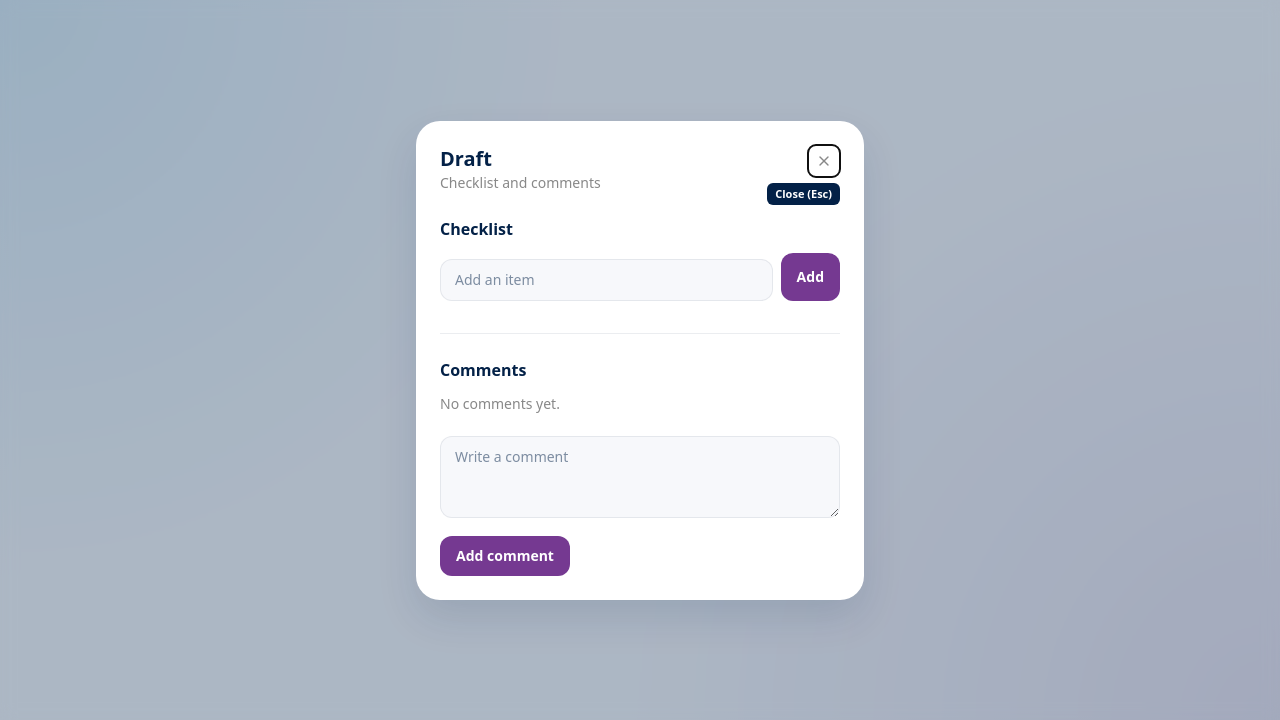
Test: CardDialog › adds and deletes a comment and passes the updated board on
Expected: the text "No comments yet." is shown, x1=440 y1=394 x2=560 y2=412
In the text box named "New comment": (640, 476) x1=440 y1=436 x2=840 y2=518, type "  First!  "
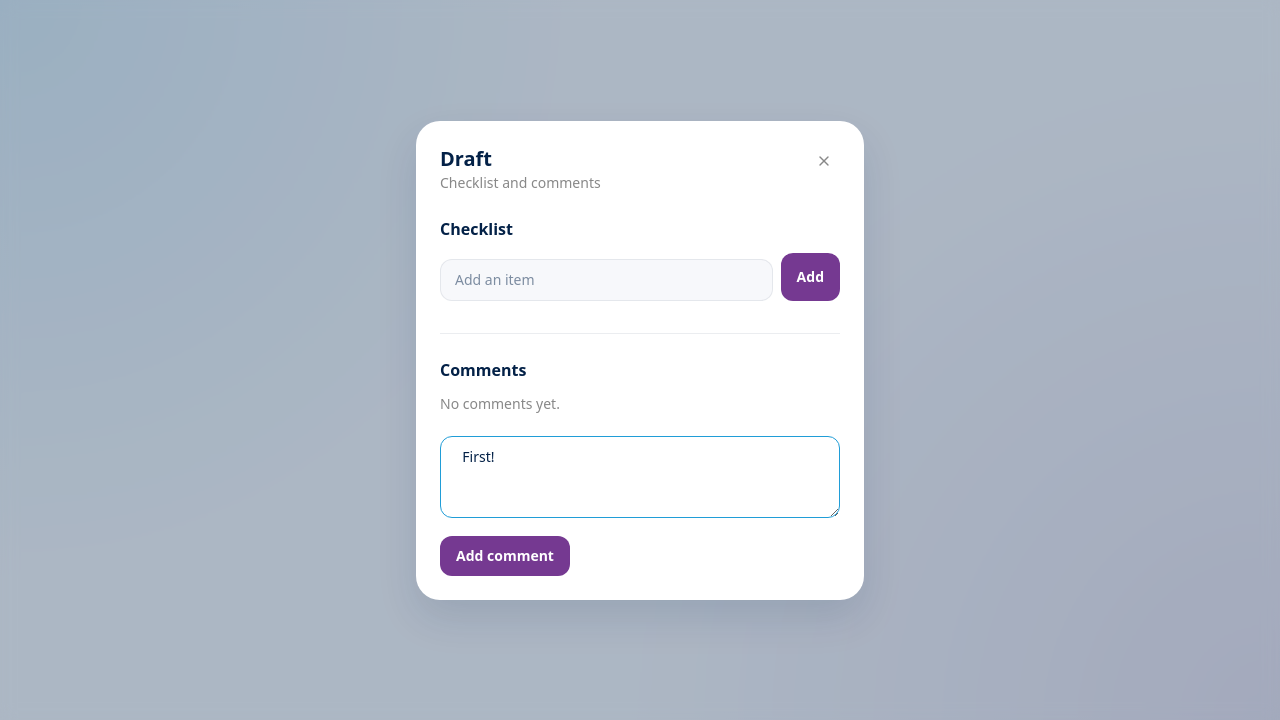
Click the button "Add comment": (505, 556) x1=440 y1=536 x2=570 y2=576
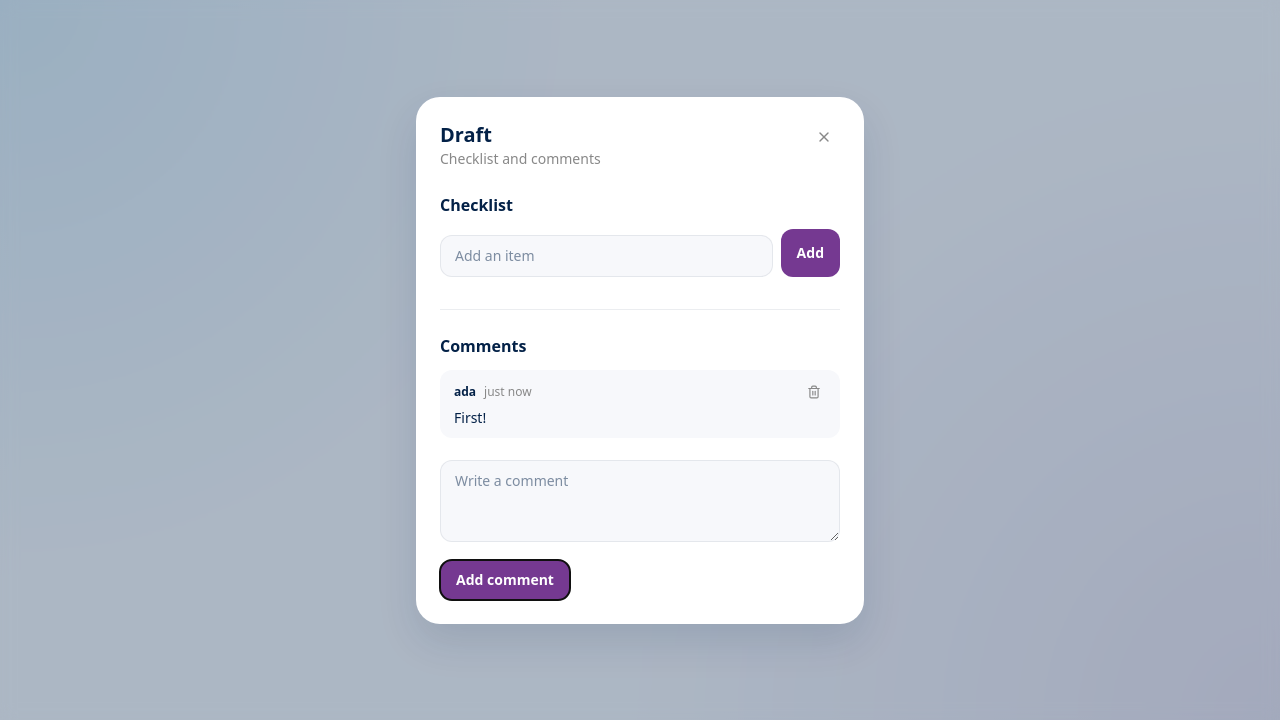
Result: the text "First!" is shown at x1=454 y1=408 x2=486 y2=426
Result: the text box named "New comment" is empty at x1=440 y1=460 x2=840 y2=542
Click the button named "Delete comment": (814, 392) x1=802 y1=380 x2=826 y2=404
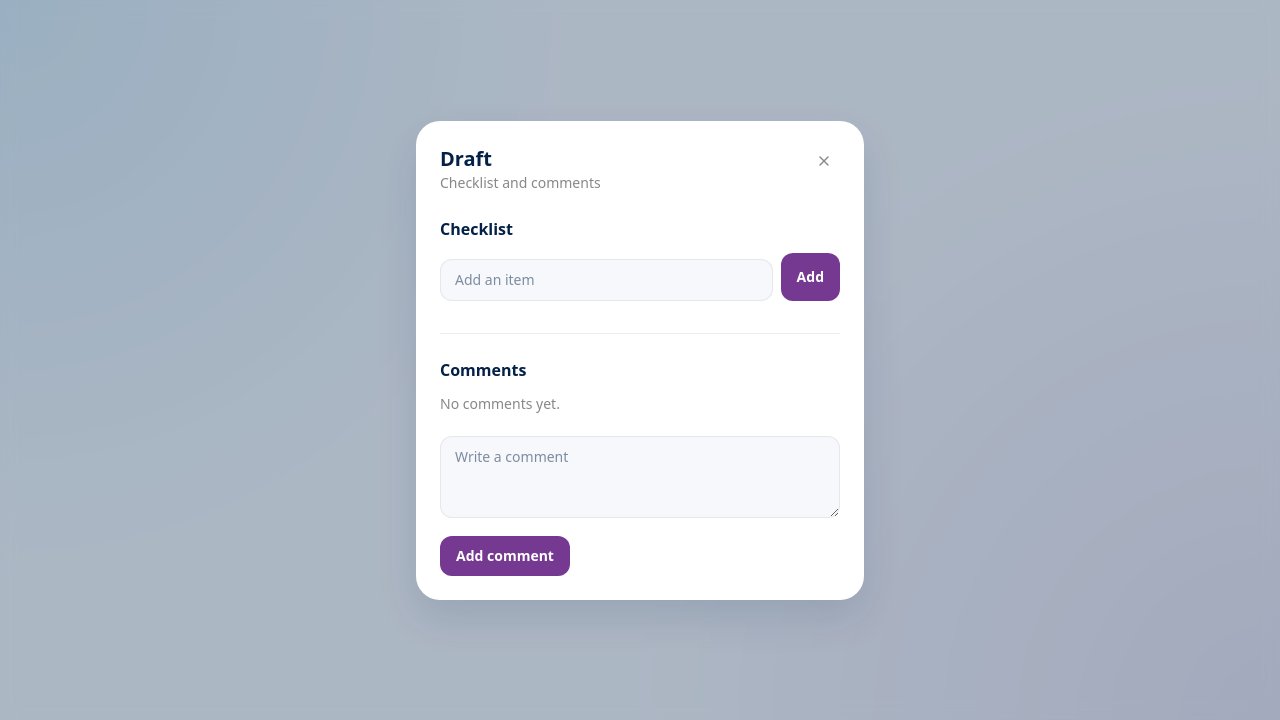
Result: the text "No comments yet." is shown at x1=440 y1=394 x2=560 y2=412
